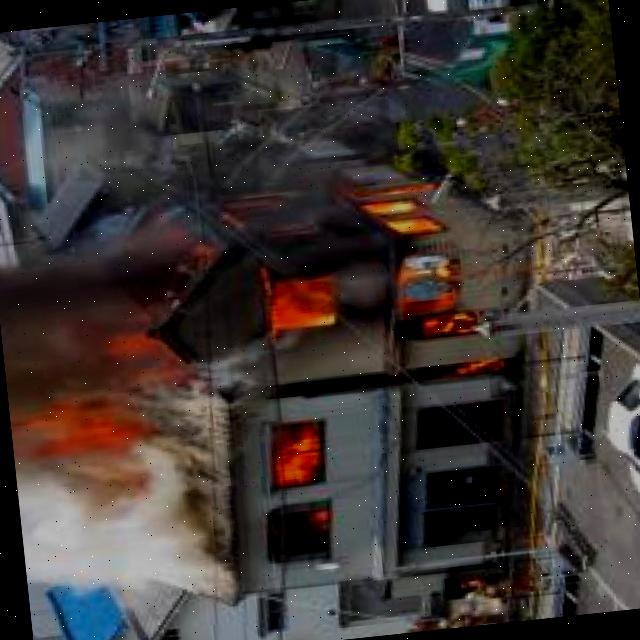fire: (167, 172, 513, 408), (8, 390, 150, 472), (274, 425, 330, 539), (85, 325, 164, 367)
